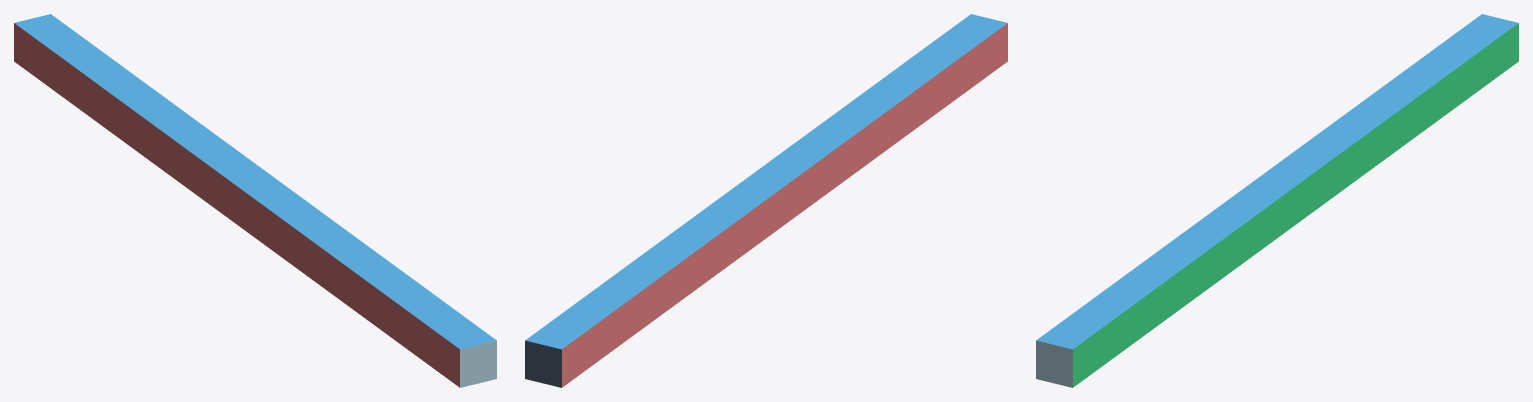
File: IK测试模型.obj
3 views of the same model, side by side, from view 1: azimuth 30°, elevation 25°; view 2: azimuth 150°, elevation 25°; view 3: azimuth 330°, elevation 25° (orthographic).
Parts seen in each view (by area): view 1: cube; view 2: cube; view 3: cube.
Part boxes in pixels (<box>): cube: <box>14,14,496,387</box>; cube: <box>525,14,1007,387</box>; cube: <box>1036,14,1518,387</box>.
Bounding box in the file's own units: 0.125 × 0.125 × 2.62.
1 material, 1 textured.
